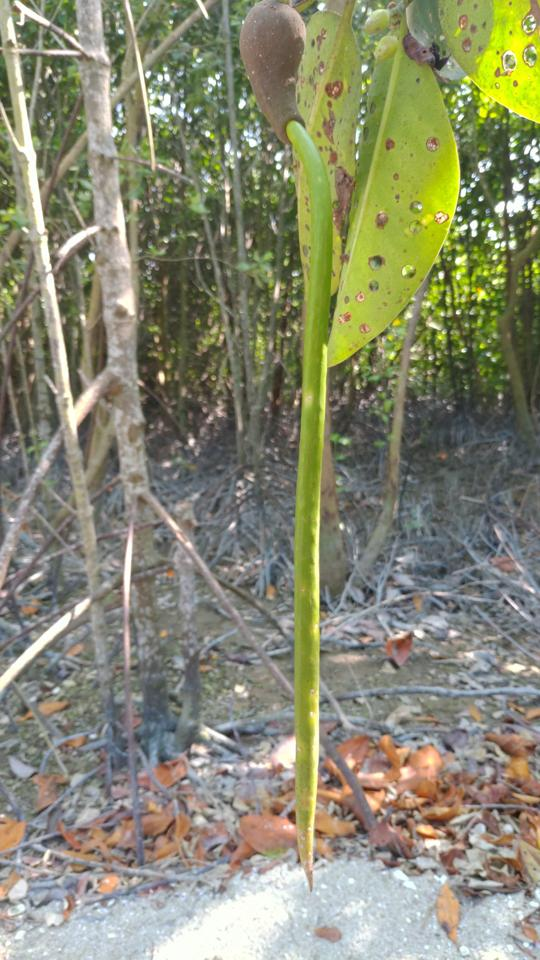mentah: (231, 1, 349, 904)
